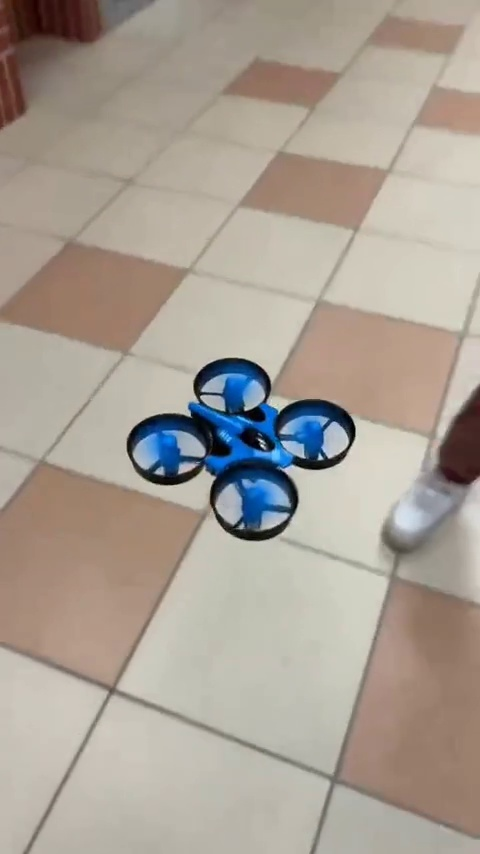drone: (131, 363, 361, 530)
